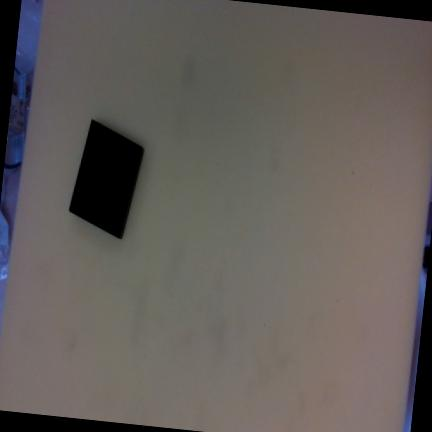tile: (65, 118, 146, 239)
